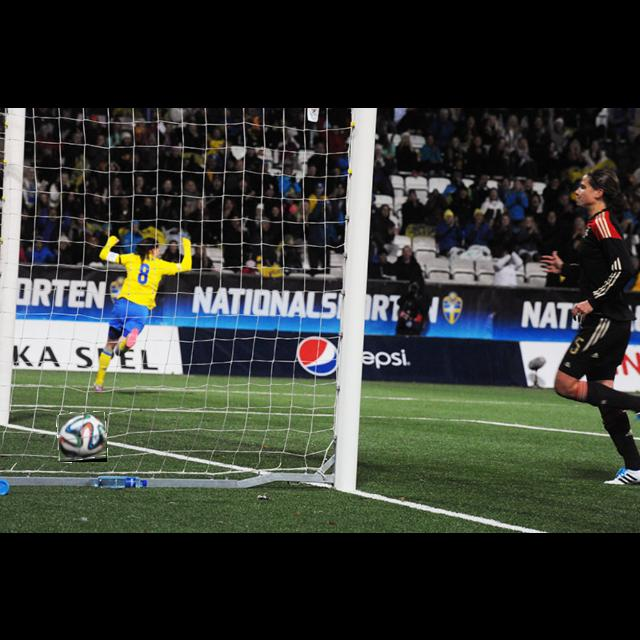Football: (57, 412, 107, 462)
